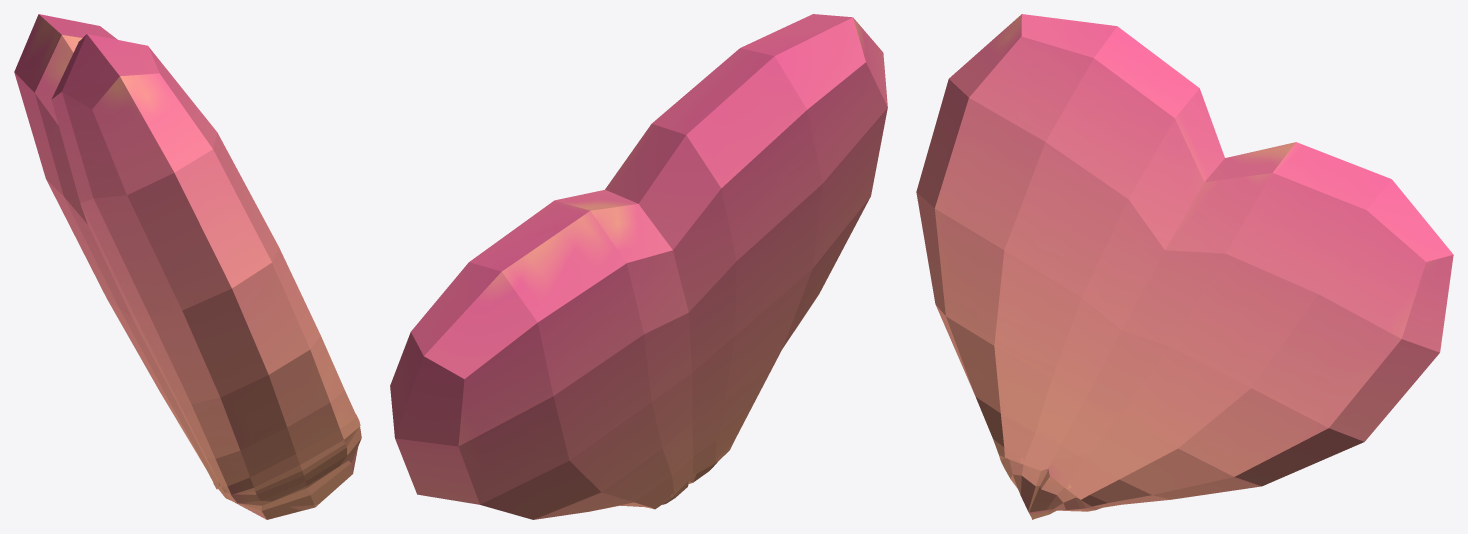
Rendered from ssofapillow.gltf.
The picture shows the model from 3 angles, left to right: view 1: azimuth 30°, elevation 25°; view 2: azimuth 150°, elevation 25°; view 3: azimuth 270°, elevation 25°; orthographic projection. The views are drawn at different scales.
Parts seen in each view (by area): view 1: Cube.001; view 2: Cube.001; view 3: Cube.001.
Boxes of the visible parts, box(x1,y1,x2,y2) form: Cube.001: box(14, 14, 361, 519); Cube.001: box(390, 14, 887, 519); Cube.001: box(916, 14, 1453, 519).
Bounding box in the file's own units: 0.2782 × 0.4645 × 0.5288.
1 material, 1 textured.
